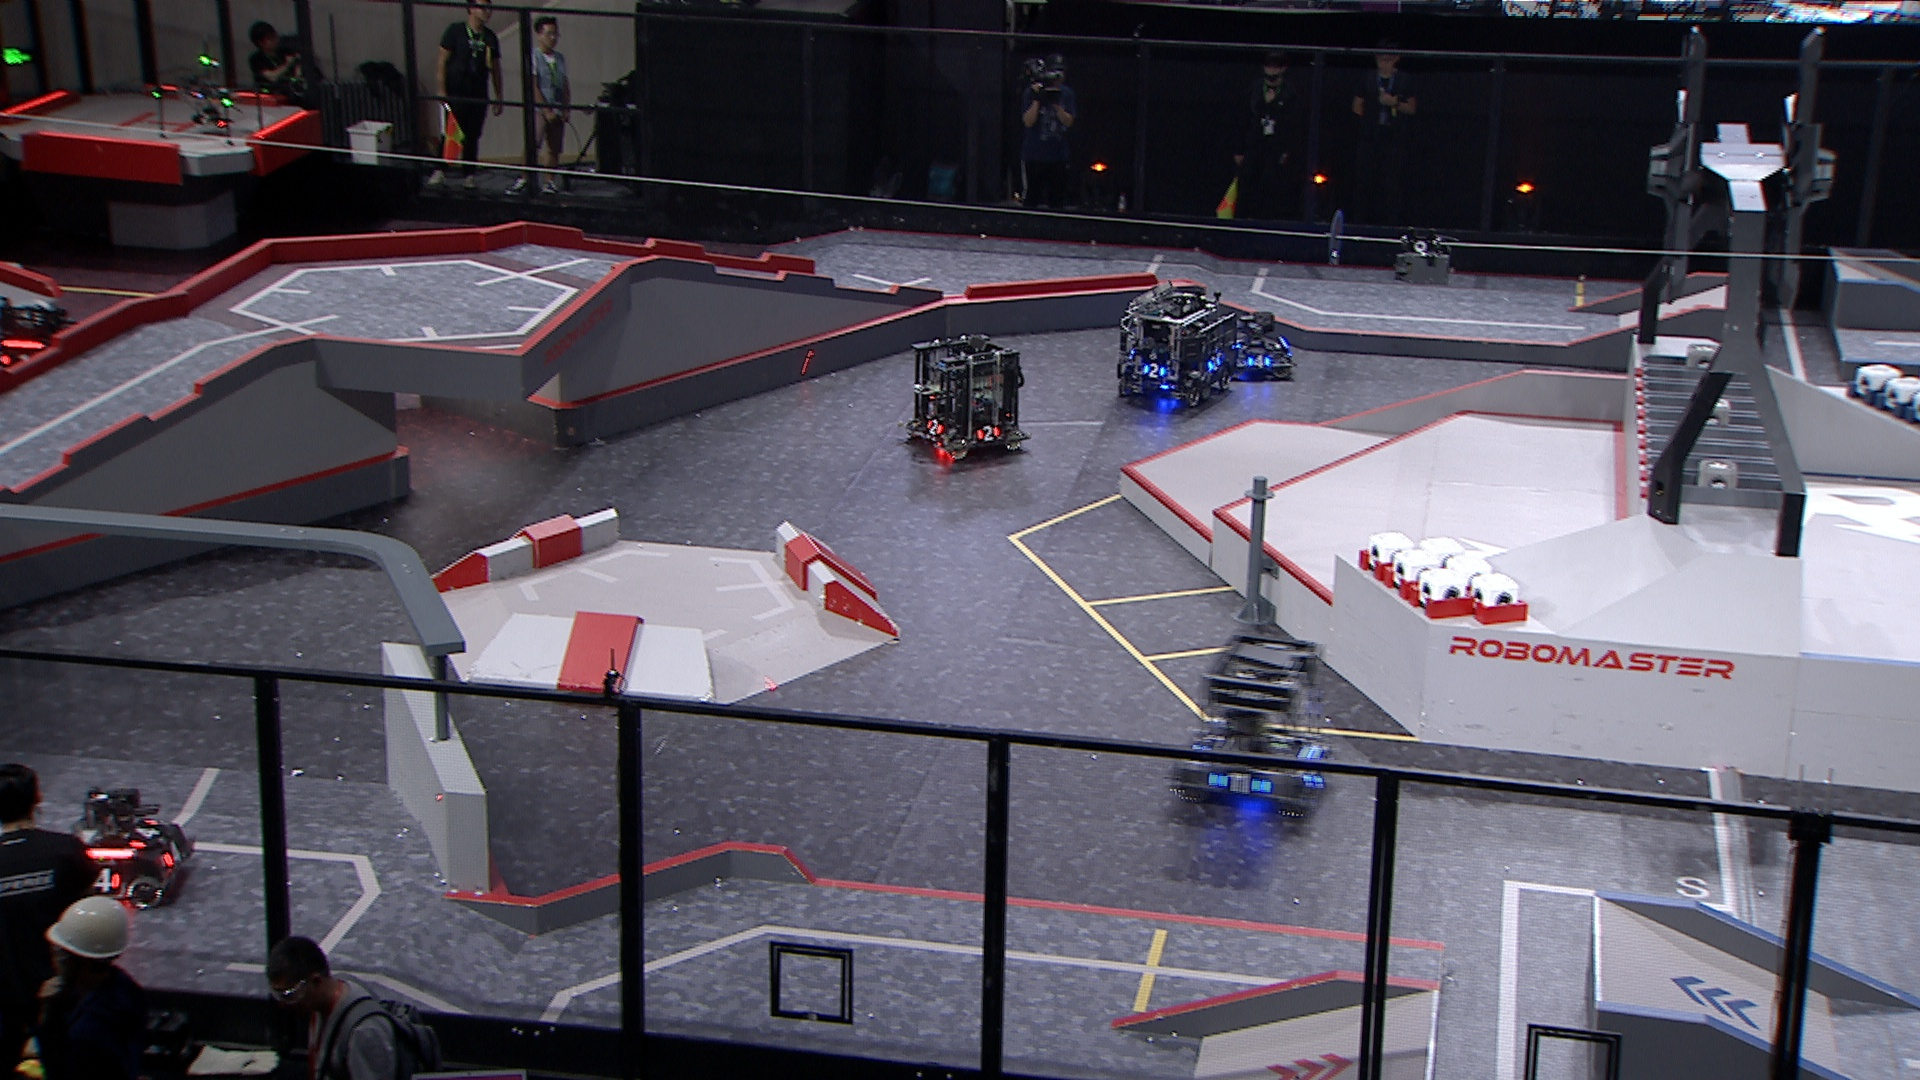armor: (1207, 767, 1269, 798), (127, 818, 160, 851), (94, 866, 124, 893), (161, 839, 189, 866), (973, 425, 1001, 443), (920, 417, 945, 436), (1245, 353, 1271, 371), (1143, 363, 1167, 381), (1207, 353, 1224, 373)
car: (1168, 633, 1337, 827), (44, 789, 193, 913), (903, 332, 1035, 460), (1116, 284, 1233, 410), (1225, 309, 1296, 376)
